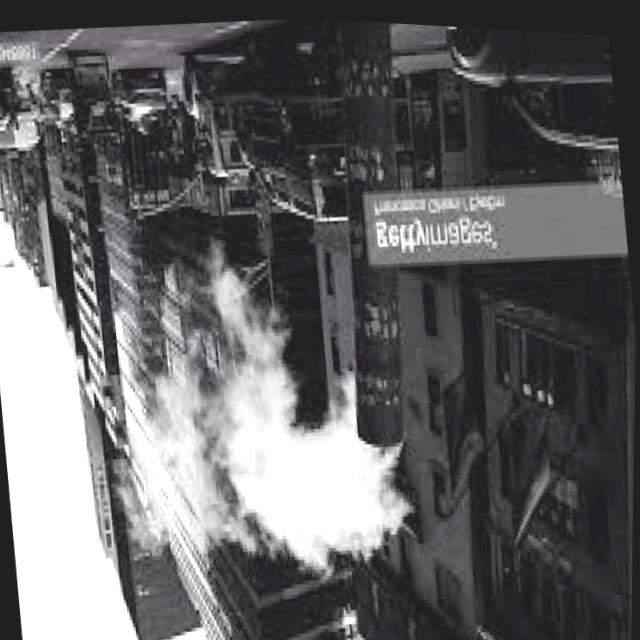Smoke: (124, 267, 433, 577)
